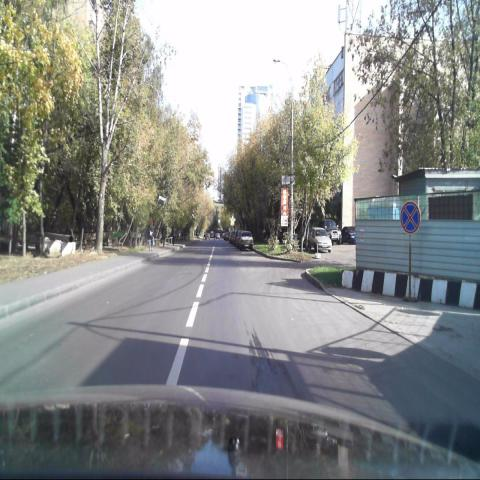3_27: (400, 200, 422, 236)
